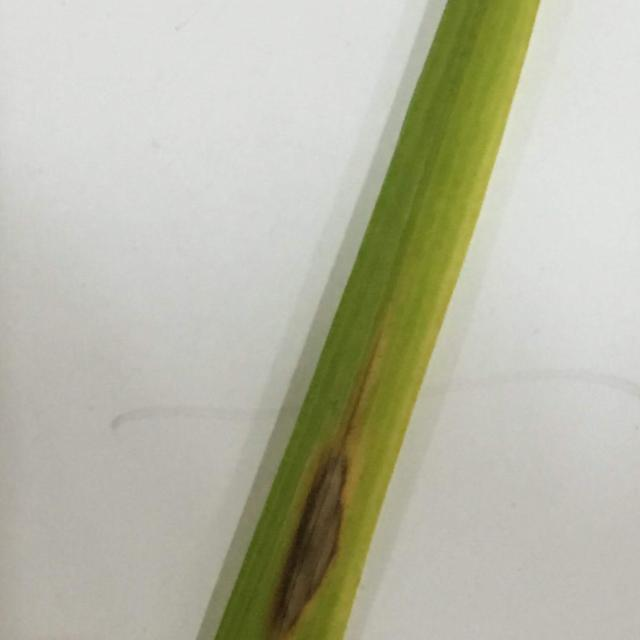Blast: (290, 443, 348, 628)
